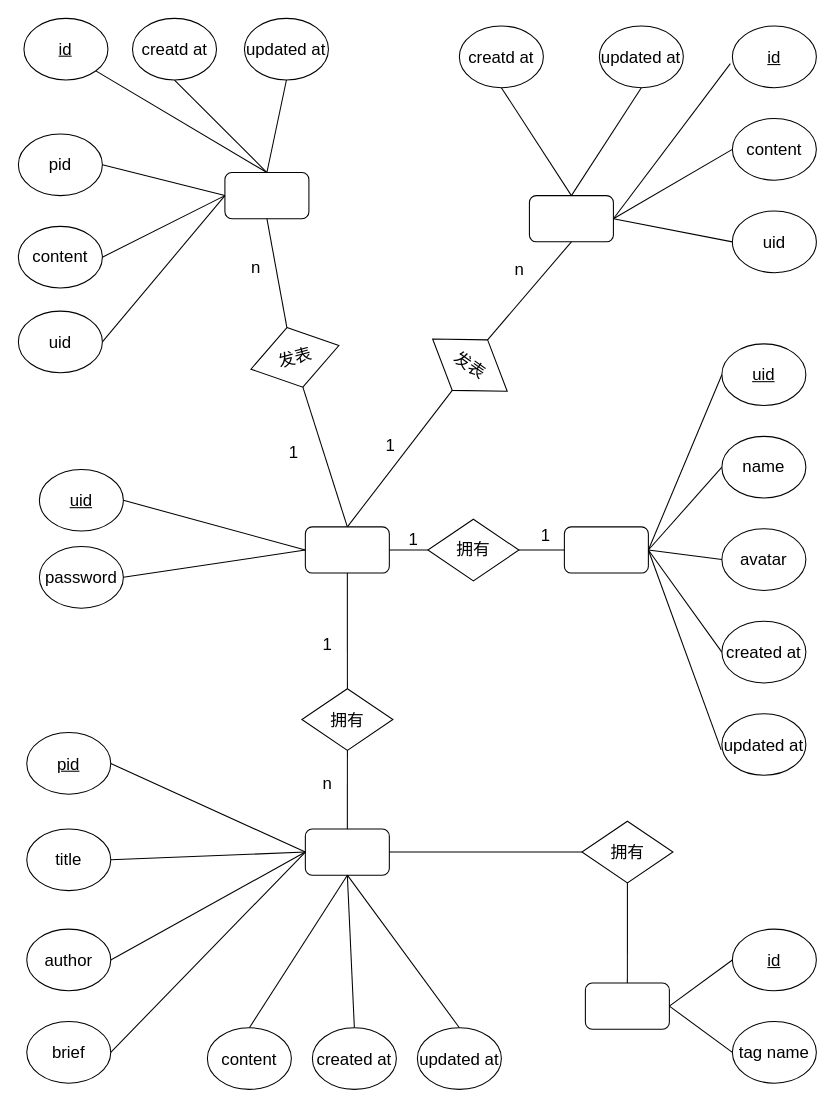
Image size: 835x1108. Some labels were removed from this diagram. Each missing label, with the centre of its shape:
"post" belongs at point (346, 851).
"remark" belongs at point (266, 195).
"tag" belongs at point (626, 1005).
"user" belongs at point (346, 549).
"user info" belongs at point (605, 549).
"聊天消息" belongs at point (570, 218).
